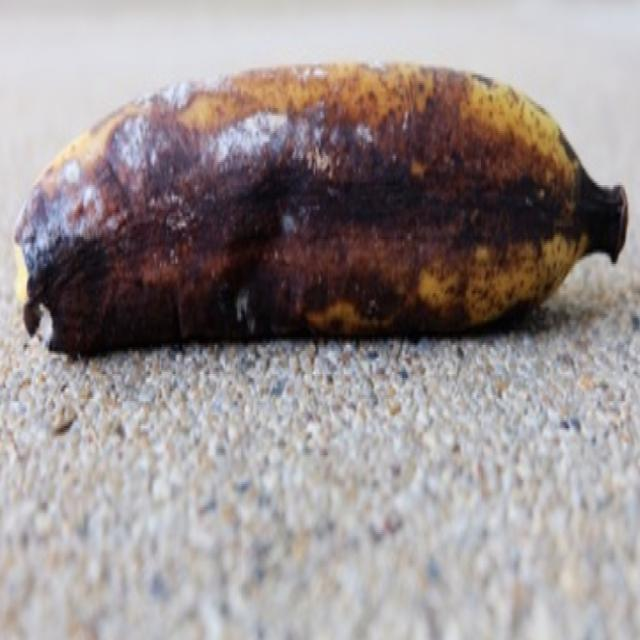Rotten: (0, 30, 639, 386)
